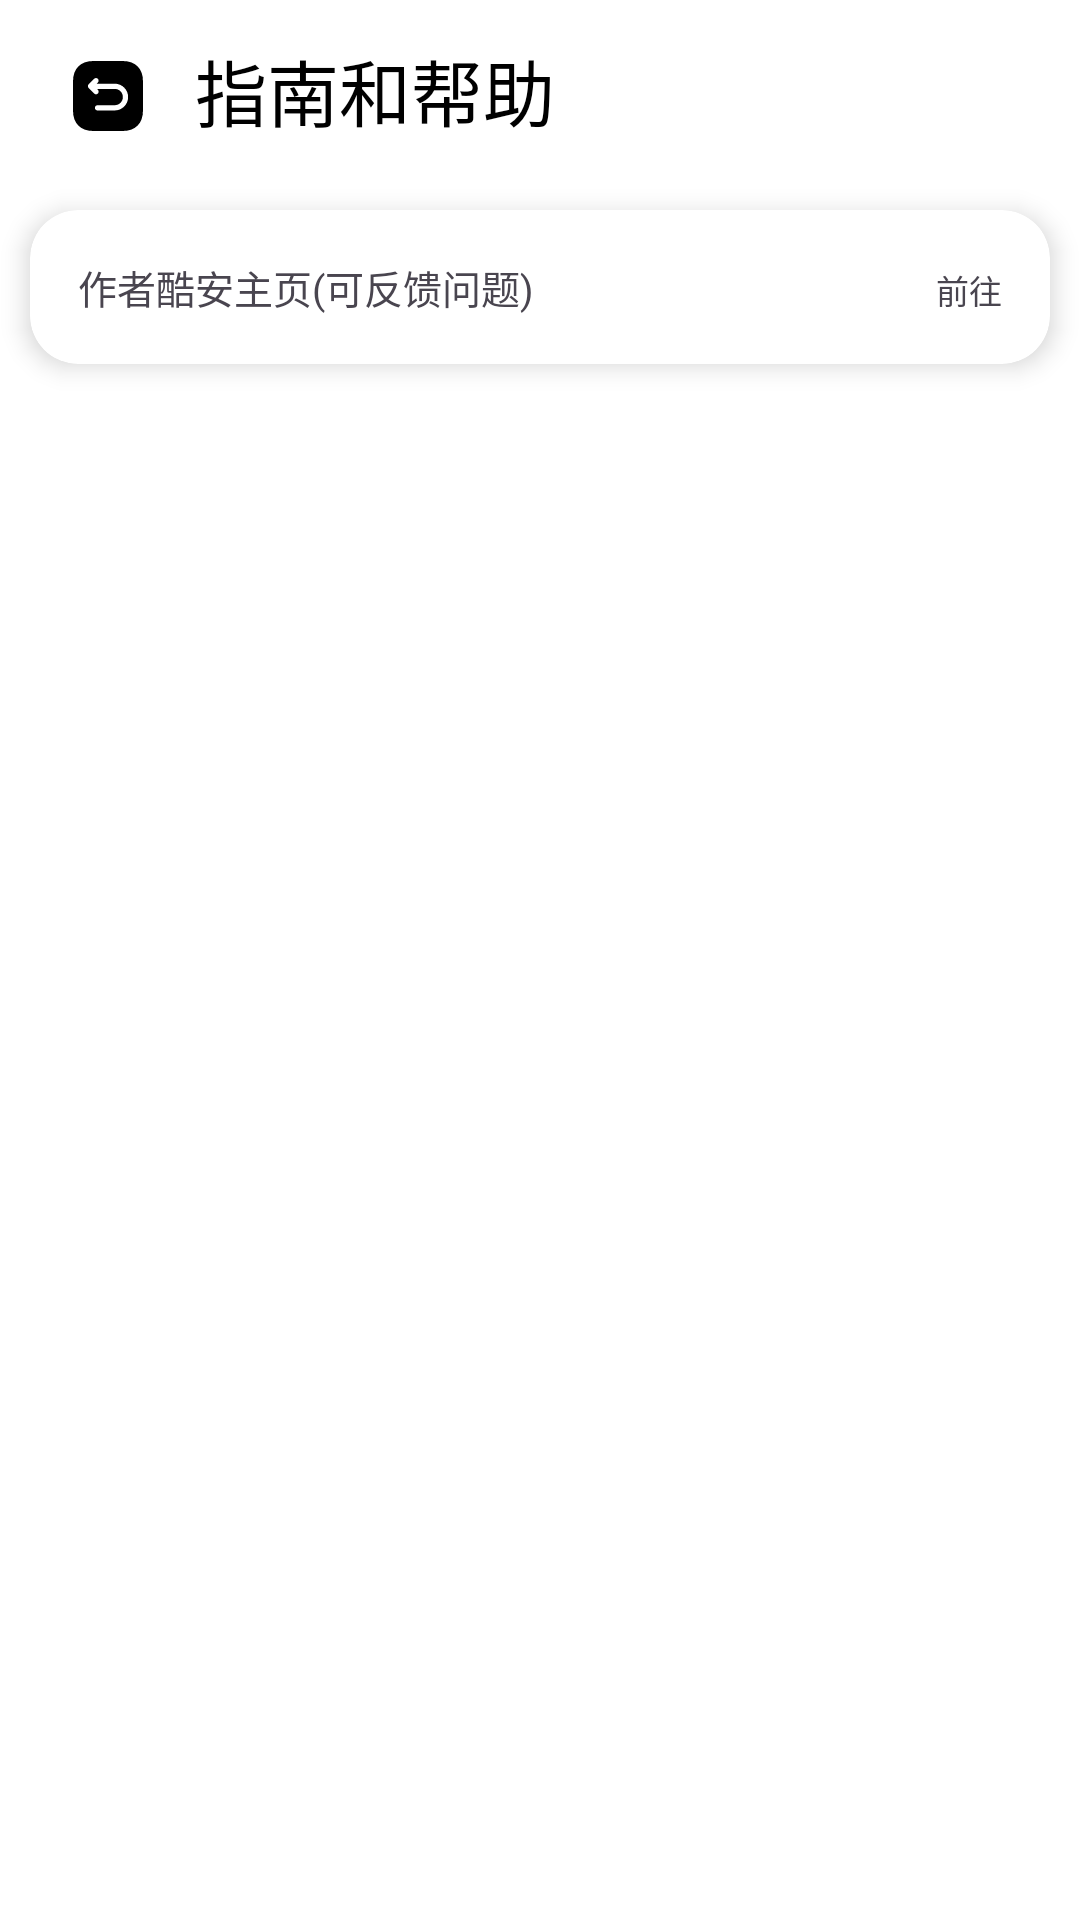

Icons on this 1080px×1920px Android screen, each with the point to tap as (x,y):
go back: (108,96)
